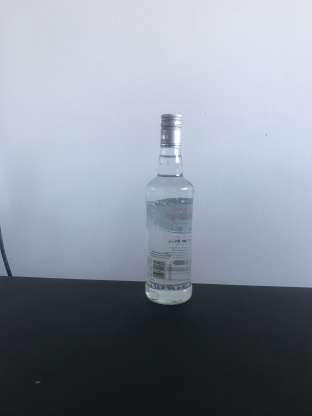nakretka: (158, 110, 183, 150)
